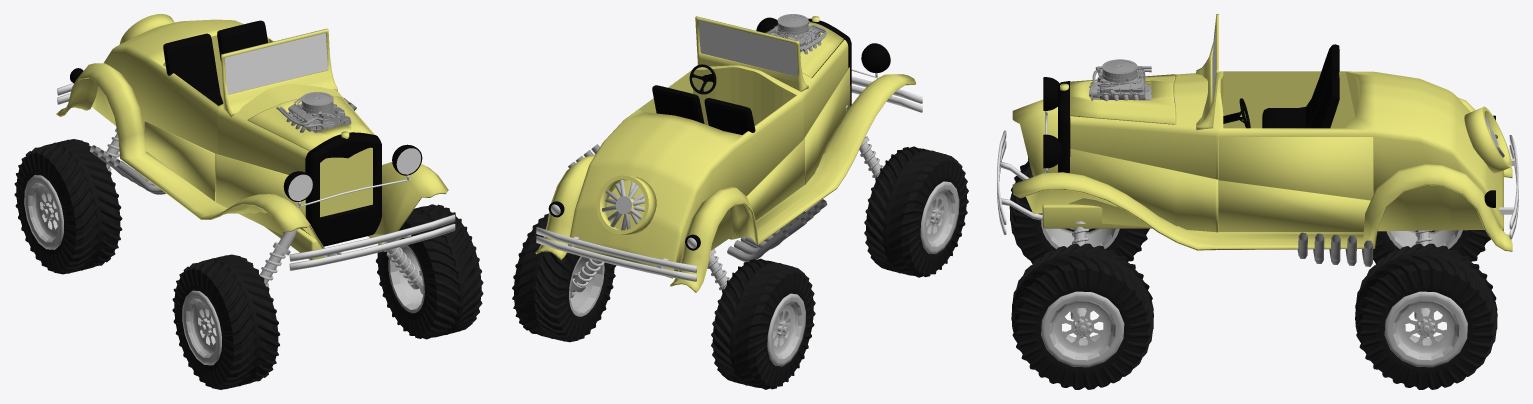
File: clascarmodif.fbx
3 views of the same model, side by side, from view 1: azimuth 30°, elevation 25°; view 2: azimuth 150°, elevation 25°; view 3: azimuth 270°, elevation 25° (orthographic). The views are drawn at different scales.
Visible parts, largest first — view 1: Body.003, Circle.022, Circle.008, Circle.005, Body.005, Cube.012, Body.004, obj_0, Cube.013, NurbsPath.001; view 2: Body.003, Circle.022, Circle.008, Circle.006, Body.005, Cube.012, Cube.013, obj_0, Body.004, NurbsPath.007, NurbsPath.001, BezierCircle.001; view 3: Body.003, Circle.005, Circle.006, Body.005, Circle.022, Body.004, obj_0, Circle.008, Cube.012, NurbsPath.001, Cube.013, NurbsPath.007.
Boxes of the visible parts, bbox=[...] form: Body.003: bbox=[56, 14, 455, 270]; Circle.022: bbox=[172, 228, 299, 389]; Circle.008: bbox=[14, 128, 122, 274]; Circle.005: bbox=[376, 204, 483, 339]; Body.005: bbox=[144, 121, 305, 235]; Cube.012: bbox=[163, 33, 223, 105]; Body.004: bbox=[247, 96, 372, 150]; obj_0: bbox=[276, 92, 351, 132]; Cube.013: bbox=[217, 20, 267, 65]; NurbsPath.001: bbox=[90, 97, 356, 192]; Body.003: bbox=[535, 16, 922, 292]; Circle.022: bbox=[846, 105, 968, 277]; Circle.008: bbox=[707, 248, 815, 389]; Circle.006: bbox=[512, 213, 616, 342]; Body.005: bbox=[735, 67, 850, 235]; Cube.012: bbox=[704, 98, 755, 134]; Cube.013: bbox=[652, 85, 704, 123]; obj_0: bbox=[767, 14, 827, 54]; Body.004: bbox=[765, 22, 843, 77]; NurbsPath.007: bbox=[727, 211, 805, 261]; NurbsPath.001: bbox=[568, 144, 827, 249]; BezierCircle.001: bbox=[689, 64, 716, 94]; Body.003: bbox=[997, 14, 1518, 251]; Circle.005: bbox=[1011, 221, 1153, 389]; Circle.006: bbox=[1355, 230, 1497, 389]; Body.005: bbox=[1069, 148, 1370, 232]; Circle.022: bbox=[1009, 157, 1149, 263]; Body.004: bbox=[1070, 74, 1175, 124]; obj_0: bbox=[1089, 59, 1175, 105]; Circle.008: bbox=[1373, 230, 1490, 263]; Cube.012: bbox=[1262, 44, 1339, 128]; NurbsPath.001: bbox=[1297, 232, 1356, 261]; Cube.013: bbox=[1311, 73, 1339, 128]; NurbsPath.007: bbox=[1313, 240, 1373, 266].
Size of the model in its own units: 375 by 369 by 602.
